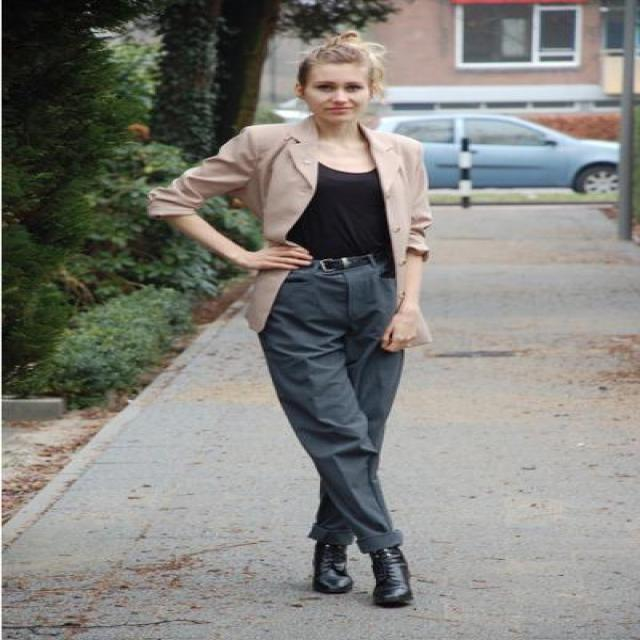jacket: (149, 115, 440, 306)
pants: (258, 269, 422, 550)
shirt: (288, 162, 394, 268)
shoe: (312, 541, 411, 607)
